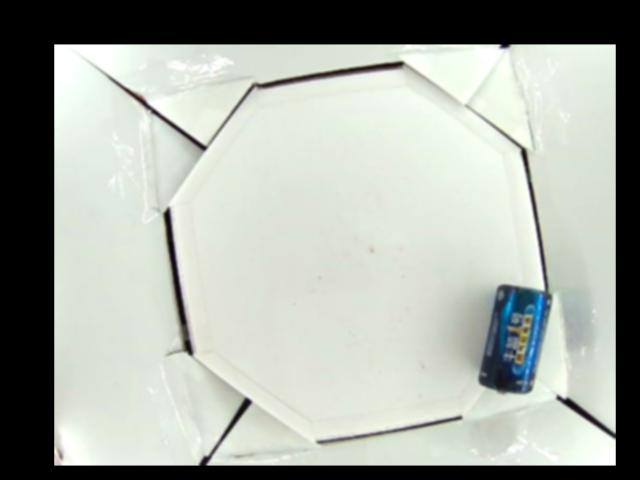Battery: (478, 284, 554, 391)
